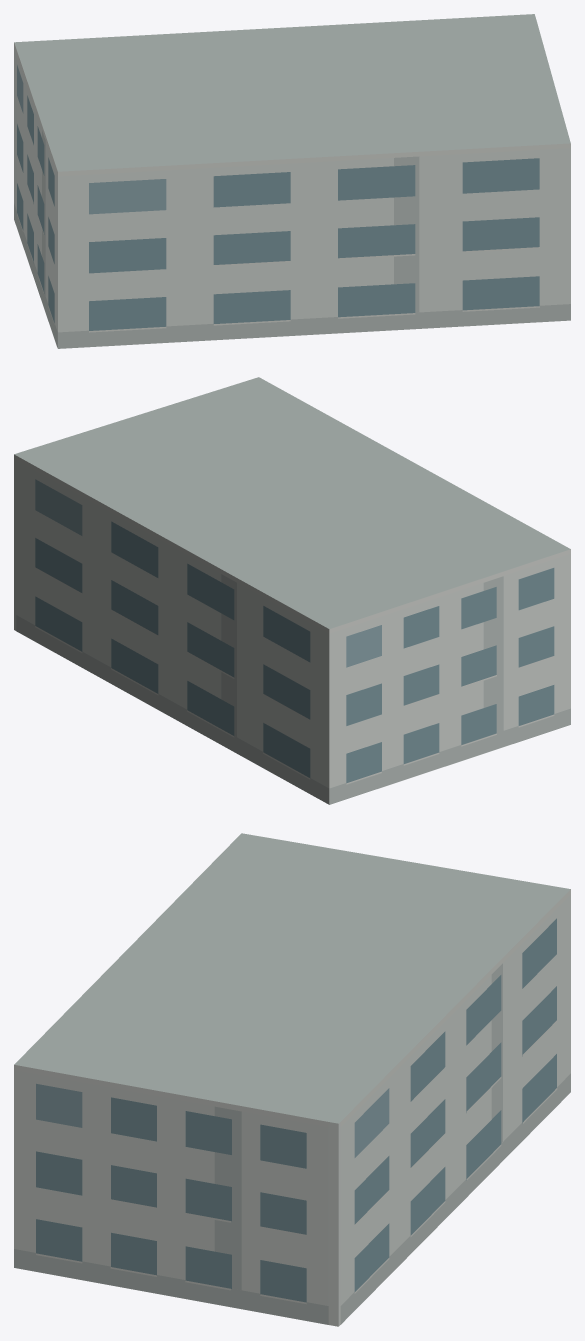
The model's file is survey-upis-32634275.glb.
3 views of the same model, one above another, from view 1: azimuth 30°, elevation 25°; view 2: azimuth 150°, elevation 25°; view 3: azimuth 270°, elevation 25° (orthographic). The views are drawn at different scales.
Parts seen in each view (by area): view 1: survey-upis-32634275.tmp; view 2: survey-upis-32634275.tmp; view 3: survey-upis-32634275.tmp.
Part boxes in pixels (<box>): survey-upis-32634275.tmp: <box>14,14,570,348</box>; survey-upis-32634275.tmp: <box>14,377,570,804</box>; survey-upis-32634275.tmp: <box>14,833,570,1326</box>.
Size of the model in its own units: 28.07 by 9.15 by 22.74.
